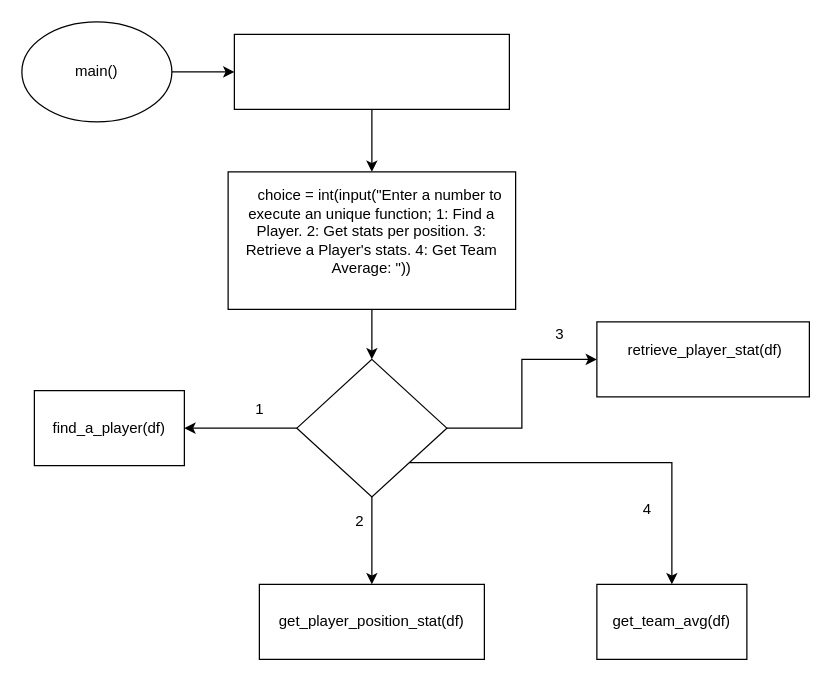
The diagram is 831 pixels wide and 681 high, and some of its shapes have lost their labels. Here are the shapes that lost their labels. From the top down, the centre of each, then its label:
point (371, 71): df = pd.read_csv("archive/nba.csv")
point (371, 427): if Choice == ?
